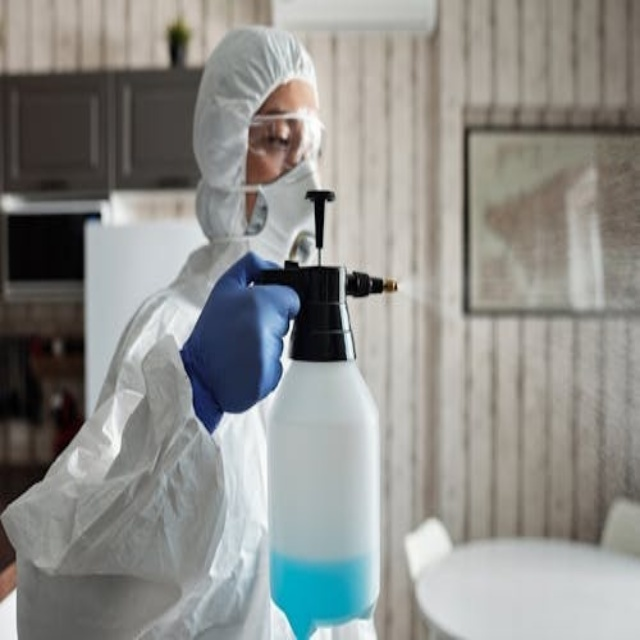Gafas: (246, 110, 327, 170)
Guantes: (181, 252, 299, 433)
Mascara: (231, 152, 322, 262)
